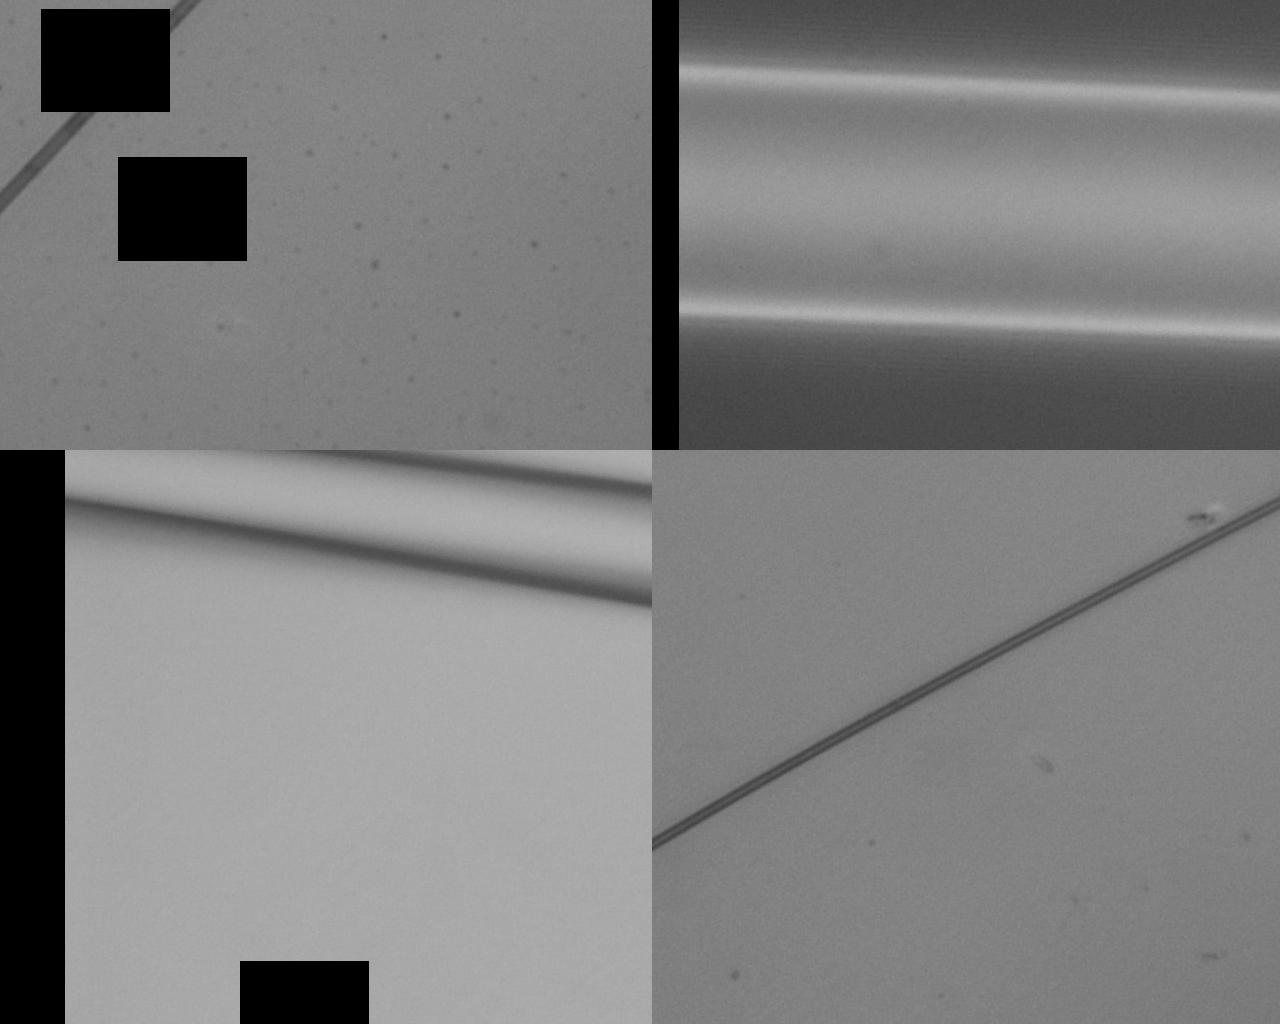fiber: (652, 491, 1280, 857), (679, 56, 1280, 341), (65, 450, 652, 601)
